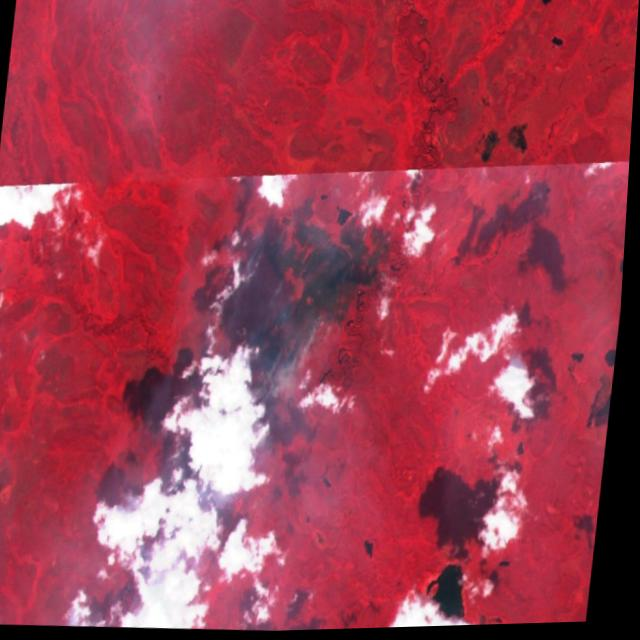fire: (227, 181, 396, 425)
